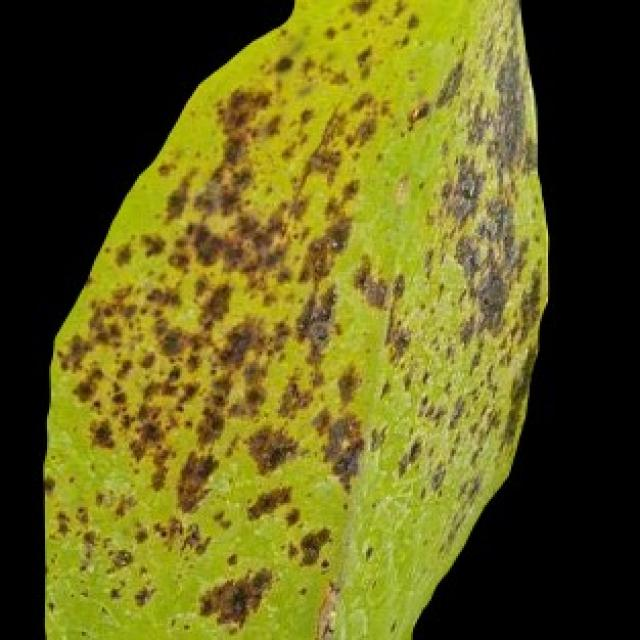mite: (292, 280, 337, 346), (243, 421, 299, 474), (174, 448, 219, 511), (243, 481, 292, 519), (294, 523, 331, 566), (86, 417, 117, 450), (456, 174, 478, 202), (106, 546, 133, 568), (358, 538, 378, 566), (348, 0, 374, 16), (362, 542, 374, 562)
spots: (39, 0, 552, 638)
